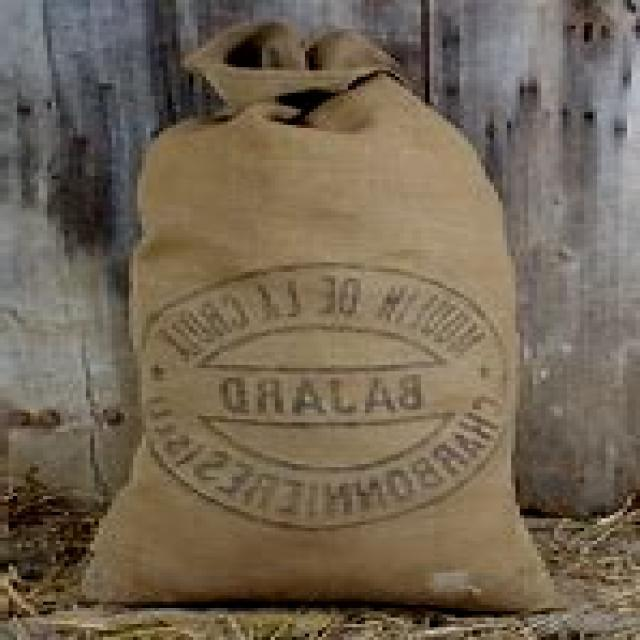gunny_bag: (69, 18, 586, 622)
